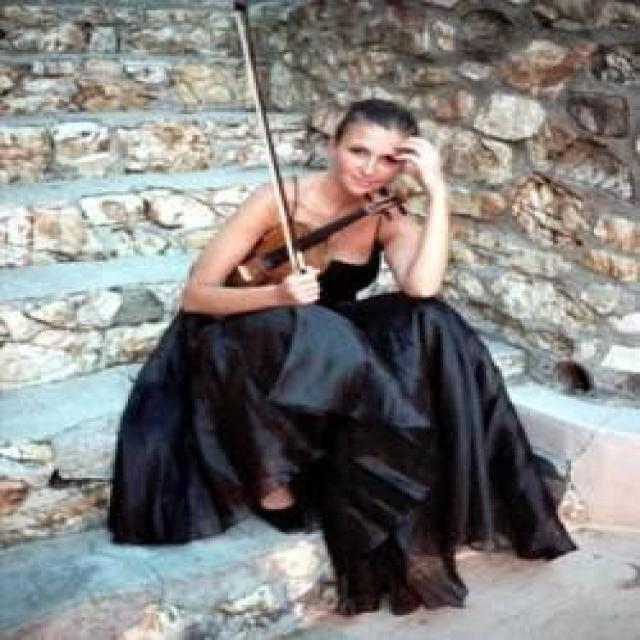violin: (226, 187, 418, 289)
